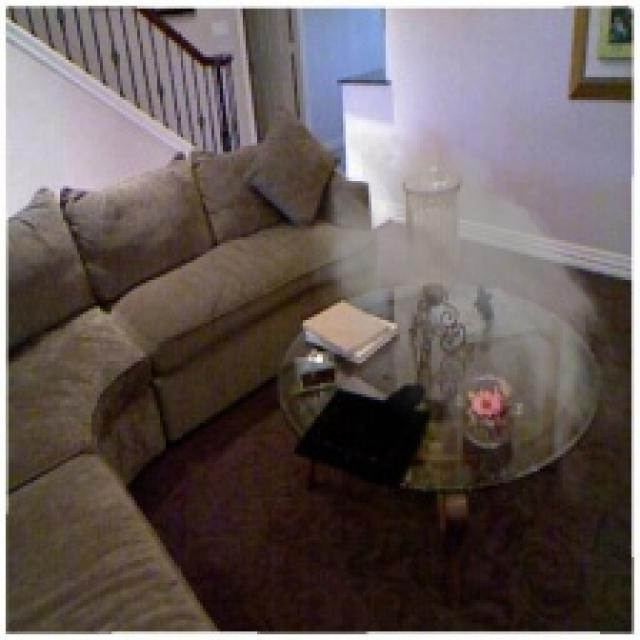smoke: (292, 117, 637, 512)
